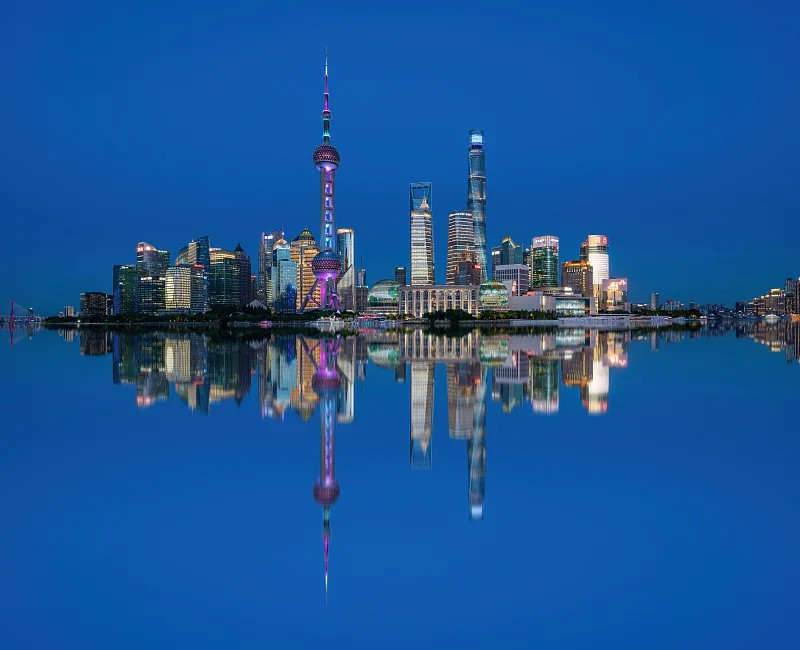Oriental: (300, 46, 342, 310)
